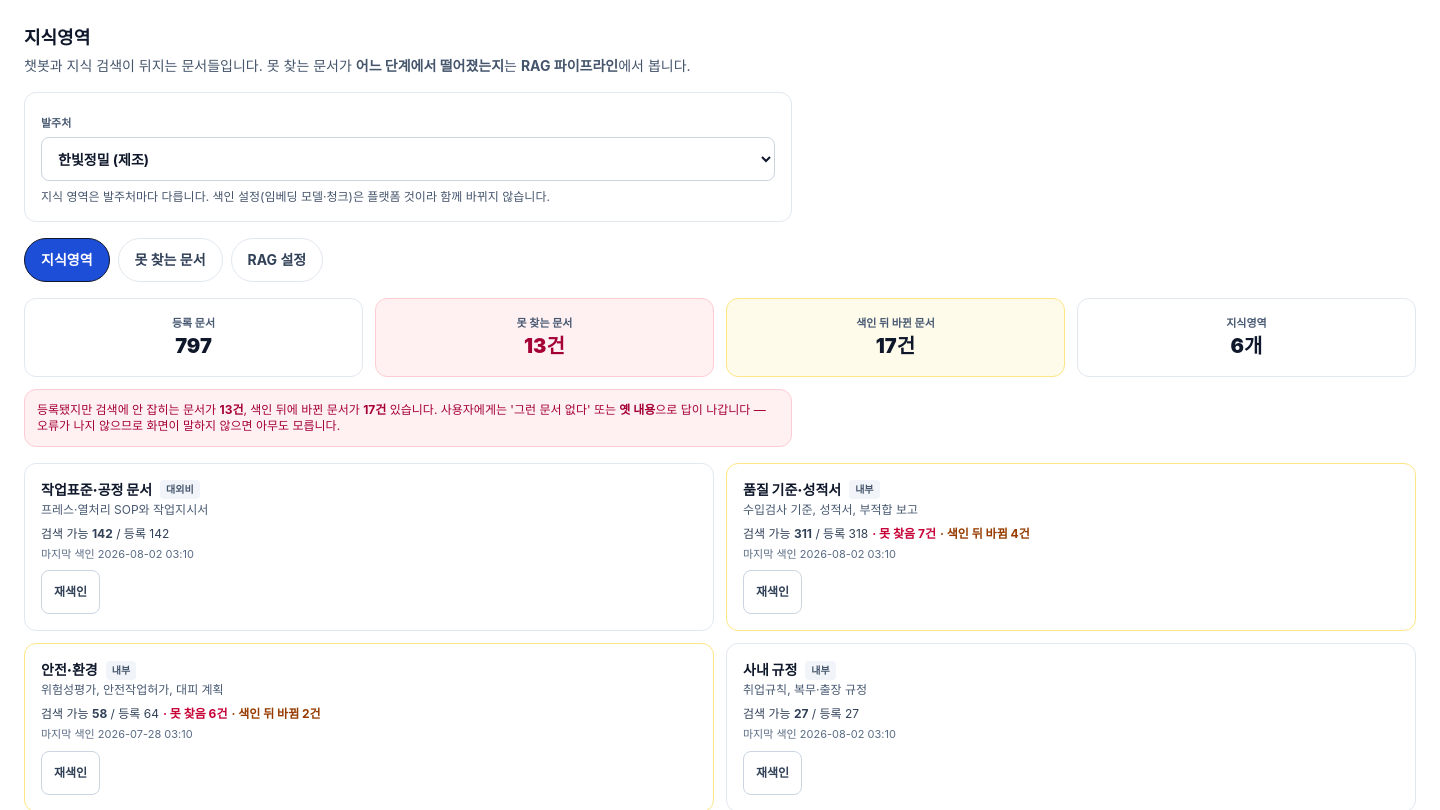
Test: RAG 설정 › 재색인이 안 끝난 상태를 경고한다
Click the tab "RAG 설정": click(277, 260) [231,238,323,282]
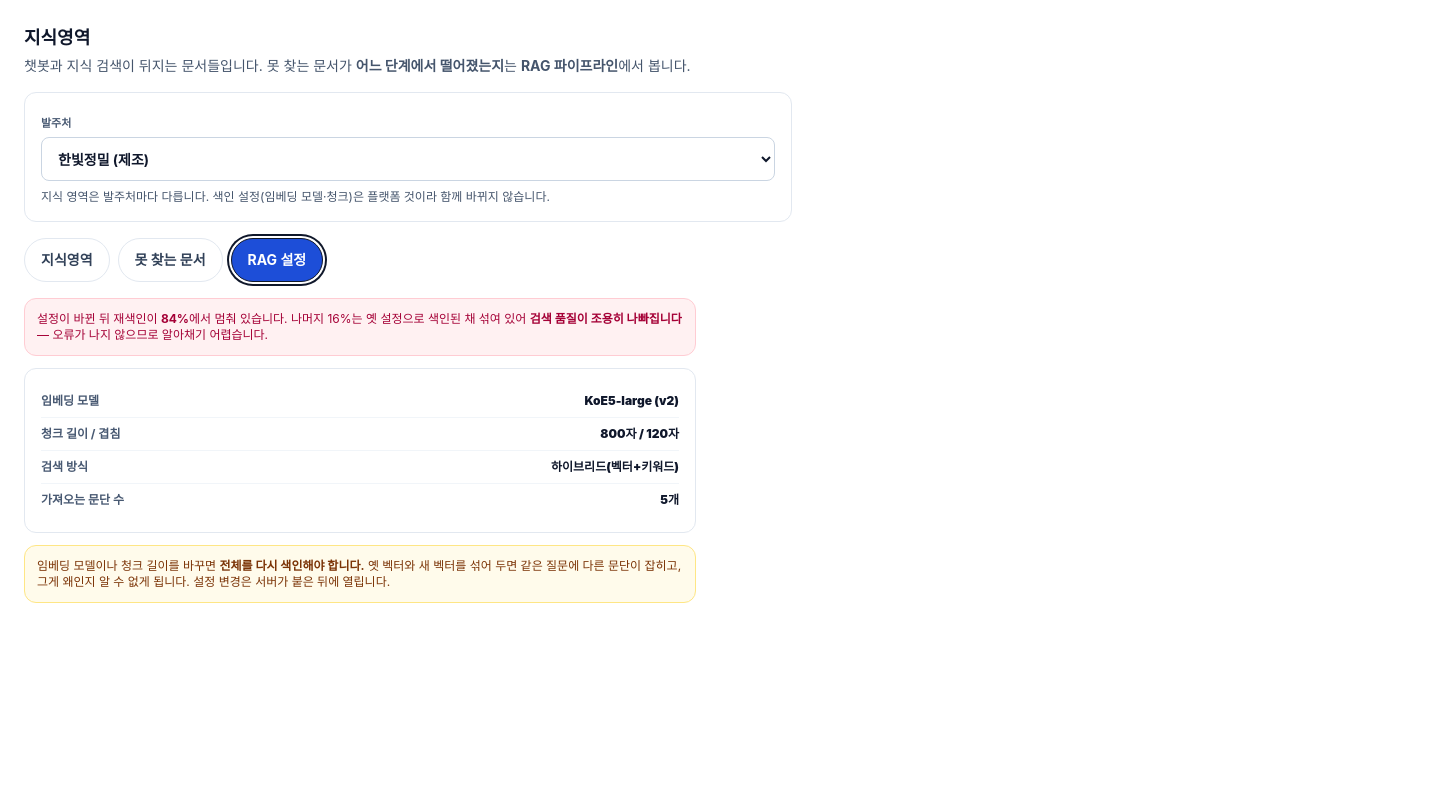
Expected: the text "검색 품질이 조용히 나빠집니다" is shown, [530,311,682,326]
Expected: the text "84%" is shown, [161,311,189,326]
